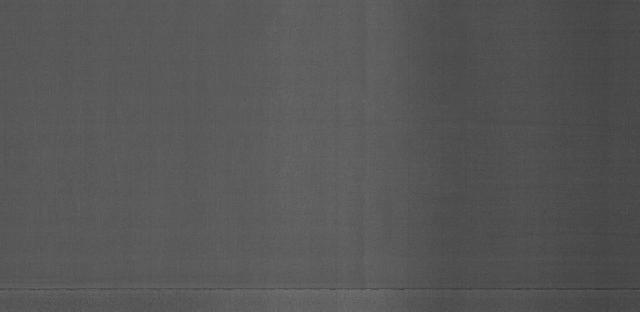welding_line: (4, 276, 640, 301)
